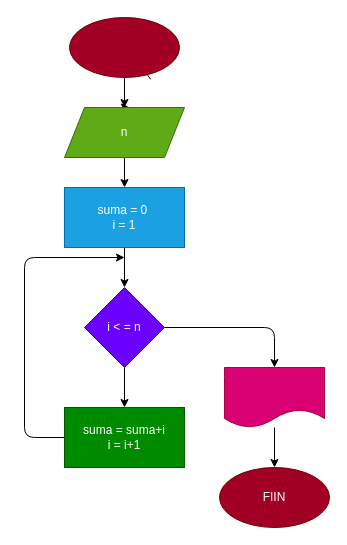
The diagram is 347 pixels wide and 545 high, and some of its shapes have lost their labels. Each missing label, with the centre of its shape:
"INICIO" goes at point (124, 47).
"SUMA" goes at point (274, 397).
